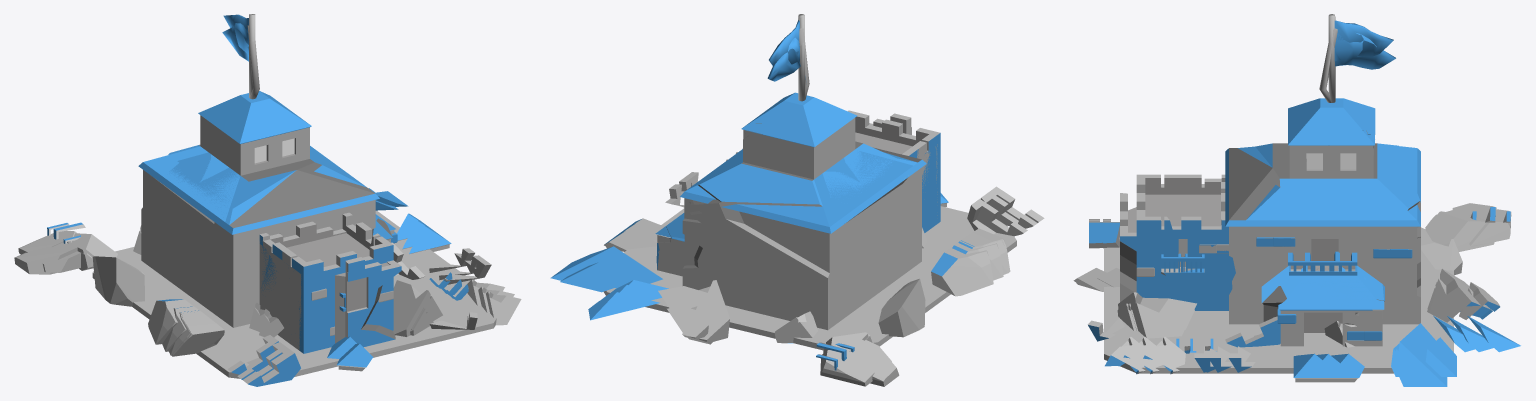
File: level2bluecasteles.fbx
3 renders of one model, left to right at view 1: azimuth 30°, elevation 25°; view 2: azimuth 150°, elevation 25°; view 3: azimuth 270°, elevation 25°, orthographic. The views are drawn at different scales.
Parts seen in each view (by area): view 1: castlelevel2blue50destroyed, castlelevel2blue25destroyed, castlelevel2blue, bluebasecastelevel250destroyed, bluebasecastelevel2, castlelevel2blue100destroyed, castlelevel2blue.005_cell.047, castlelevel2blue.005_cell.027, bluebasecastelevel225destroyed, castlelevel2blue.005_cell.036, bluebasecastelevel275destroyed, castlelevel2blue.005_cell.007 (+11 smaller); view 2: castlelevel2blue25destroyed, castlelevel2blue75destroyed, castlelevel2blue, bluebasecastelevel2, castlelevel2blue50destroyed, bluebasecastelevel250destroyed, castlelevel2blue.005_cell.017, castlelevel2blue.005_cell.033, bluebasecastelevel225destroyed, castlelevel2blue.005_cell.047, castlelevel2blue.005_cell.027, castlelevel2blue.005_cell.030 (+13 smaller); view 3: castlelevel2blue, castlelevel2blue50destroyed, castlelevel2blue25destroyed, bluebasecastelevel225destroyed, bluebasecastelevel250destroyed, castlelevel2blue75destroyed, bluebasecastelevel275destroyed, castlelevel2blue.005_cell.036, castlelevel2blue.005_cell.027, castlelevel2blue.005_cell.030, castlelevel2blue.005_cell.033, bluebasecastelevel2 (+19 smaller).
Part boxes in pixels (x1,y1,x2,y2): castlelevel2blue50destroyed: (169, 152, 401, 350); castlelevel2blue25destroyed: (139, 23, 394, 353); castlelevel2blue: (138, 14, 397, 353); bluebasecastelevel250destroyed: (133, 224, 496, 378); bluebasecastelevel2: (93, 211, 470, 366); castlelevel2blue100destroyed: (149, 225, 231, 325); castlelevel2blue.005_cell.047: (92, 256, 144, 306); castlelevel2blue.005_cell.027: (14, 222, 117, 274); bluebasecastelevel225destroyed: (93, 210, 487, 370); castlelevel2blue.005_cell.036: (393, 280, 442, 336); bluebasecastelevel275destroyed: (92, 215, 471, 366); castlelevel2blue.005_cell.007: (171, 311, 224, 356); castlelevel2blue25destroyed: (656, 28, 940, 328); castlelevel2blue75destroyed: (682, 159, 907, 330); castlelevel2blue: (655, 14, 940, 328); bluebasecastelevel2: (603, 227, 1008, 350); castlelevel2blue50destroyed: (674, 113, 937, 299); bluebasecastelevel250destroyed: (626, 206, 1016, 334); castlelevel2blue.005_cell.017: (931, 246, 993, 296); castlelevel2blue.005_cell.033: (658, 280, 729, 344); bluebasecastelevel225destroyed: (607, 208, 1008, 342); castlelevel2blue.005_cell.047: (878, 278, 925, 337); castlelevel2blue.005_cell.027: (816, 332, 899, 386); castlelevel2blue.005_cell.030: (550, 246, 662, 288); castlelevel2blue: (1136, 14, 1420, 346); castlelevel2blue50destroyed: (1120, 143, 1399, 346); castlelevel2blue25destroyed: (1137, 28, 1420, 346); bluebasecastelevel225destroyed: (1120, 228, 1453, 373); bluebasecastelevel250destroyed: (1104, 235, 1436, 373); castlelevel2blue75destroyed: (1250, 143, 1420, 324); bluebasecastelevel275destroyed: (1121, 227, 1453, 373); castlelevel2blue.005_cell.036: (1118, 292, 1196, 338); castlelevel2blue.005_cell.027: (1425, 203, 1496, 251); castlelevel2blue.005_cell.030: (1396, 323, 1447, 386); castlelevel2blue.005_cell.033: (1427, 268, 1492, 322); bluebasecastelevel2: (1121, 229, 1453, 373).
Size of the model in its own units: 613 by 459 by 652.
